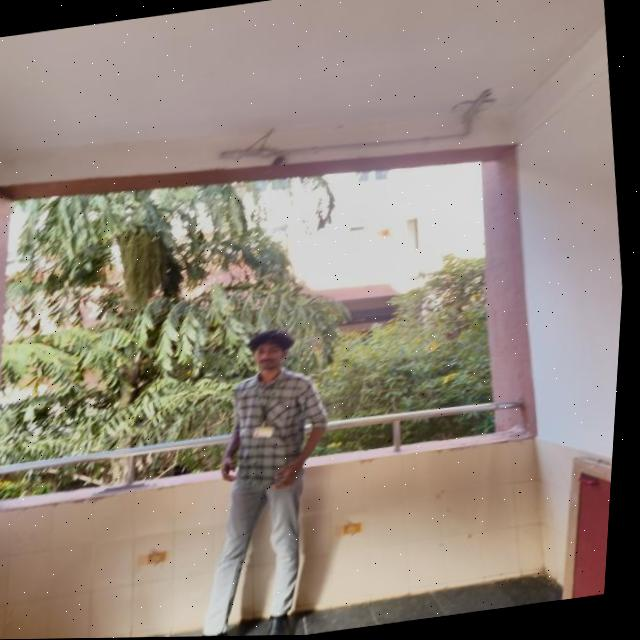id_card: (252, 380, 284, 442)
